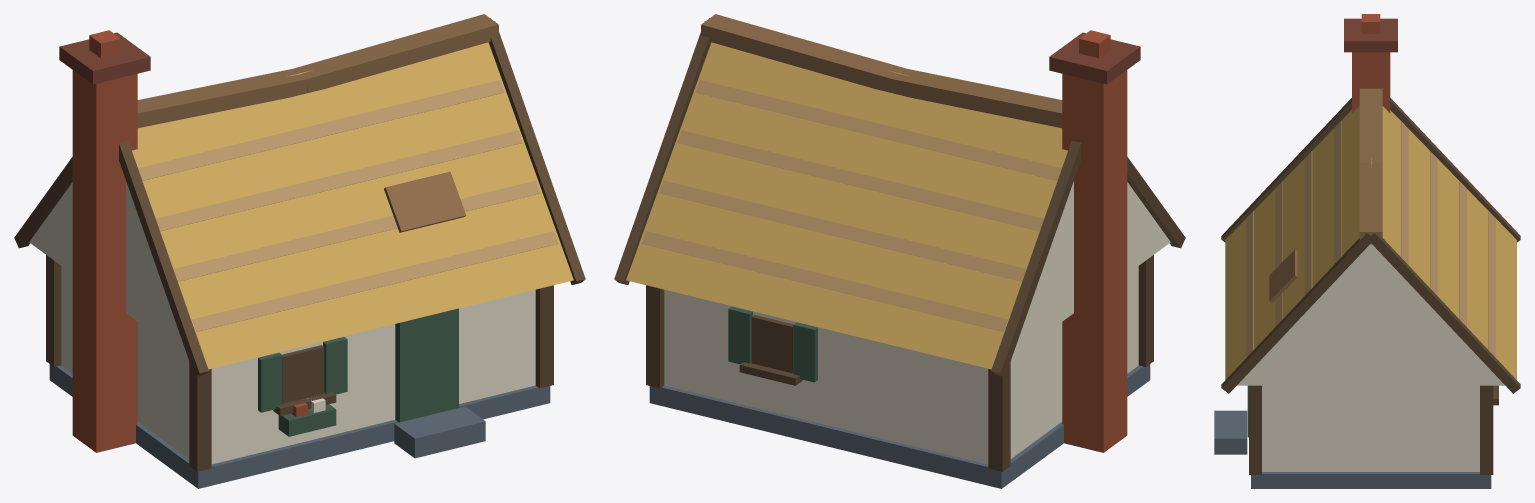
The model's file is cottage-02.glb.
3 views of the same model, side by side, from view 1: azimuth 30°, elevation 25°; view 2: azimuth 150°, elevation 25°; view 3: azimuth 270°, elevation 25° (orthographic). The views are drawn at different scales.
Visible parts, largest first — view 1: house, accent; view 2: house, accent; view 3: house.
Part boxes in pixels (x1,y1,x2,y2): house: [14, 14, 585, 488]; accent: [258, 308, 458, 436]; house: [614, 14, 1185, 488]; accent: [728, 306, 817, 382]; house: [1214, 14, 1520, 488].
Bounding box in the file's own units: 7.06 × 6.51 × 5.57.
1 material, 1 textured.
